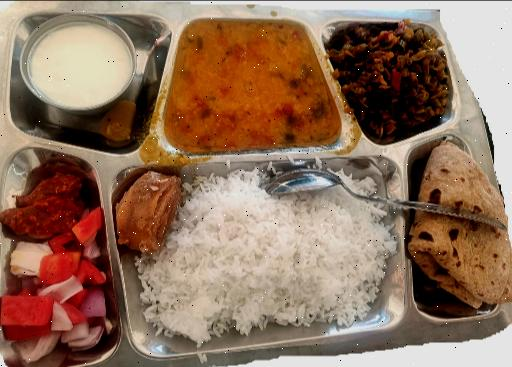Curd: (14, 14, 142, 119)
Dal: (172, 20, 324, 150)
Pickle: (0, 162, 88, 236)
Rice: (134, 167, 394, 346)
Roti: (412, 144, 512, 310)
Salad: (0, 246, 103, 358)
Sweet: (114, 168, 188, 253)
Vegetable: (332, 25, 448, 134)
